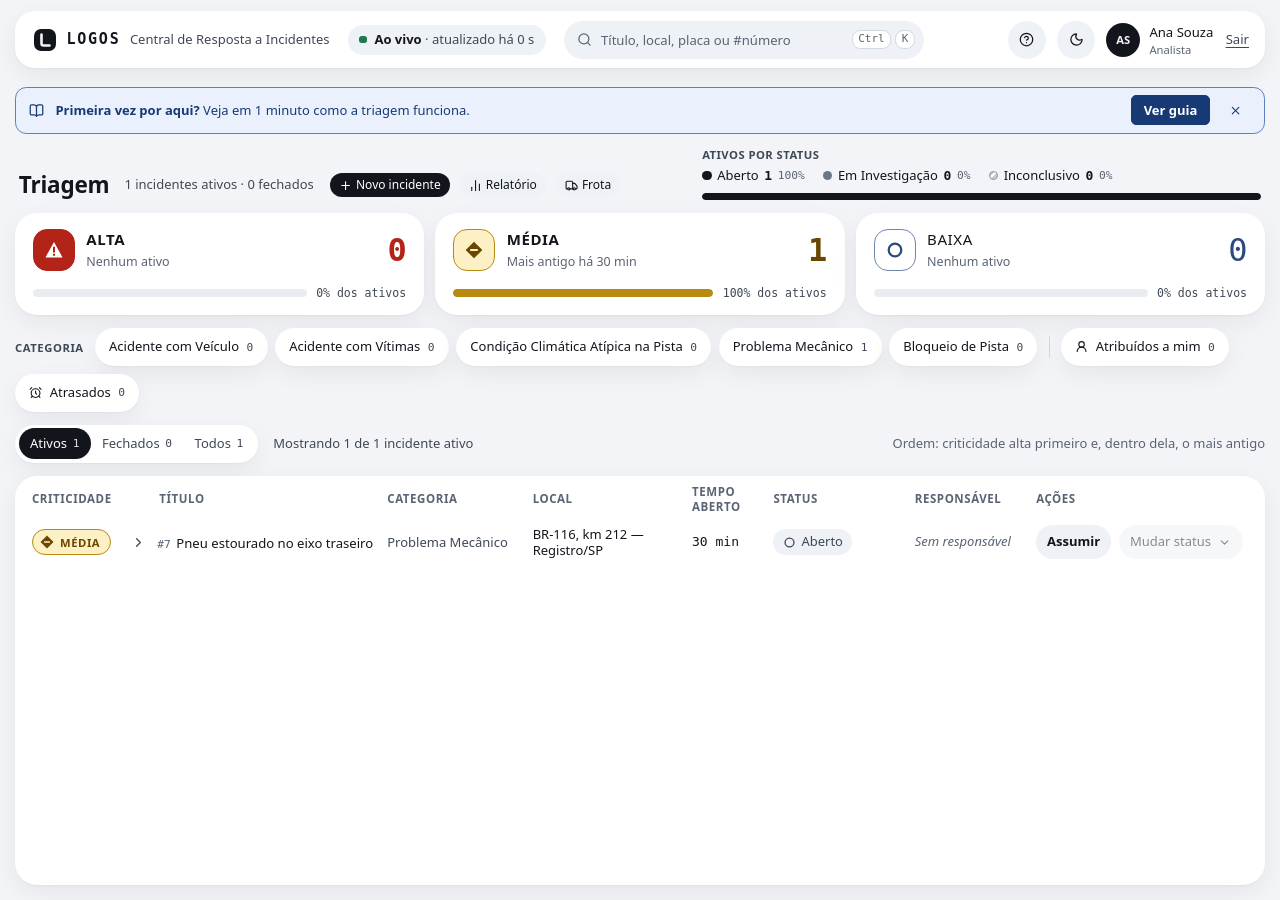
Test: TelaTriagem — ações › a leitura periódica não apaga a mudança em andamento
Click the button with aria-label "Assumir #7" at (1074, 542), box [1036,525,1111,559]
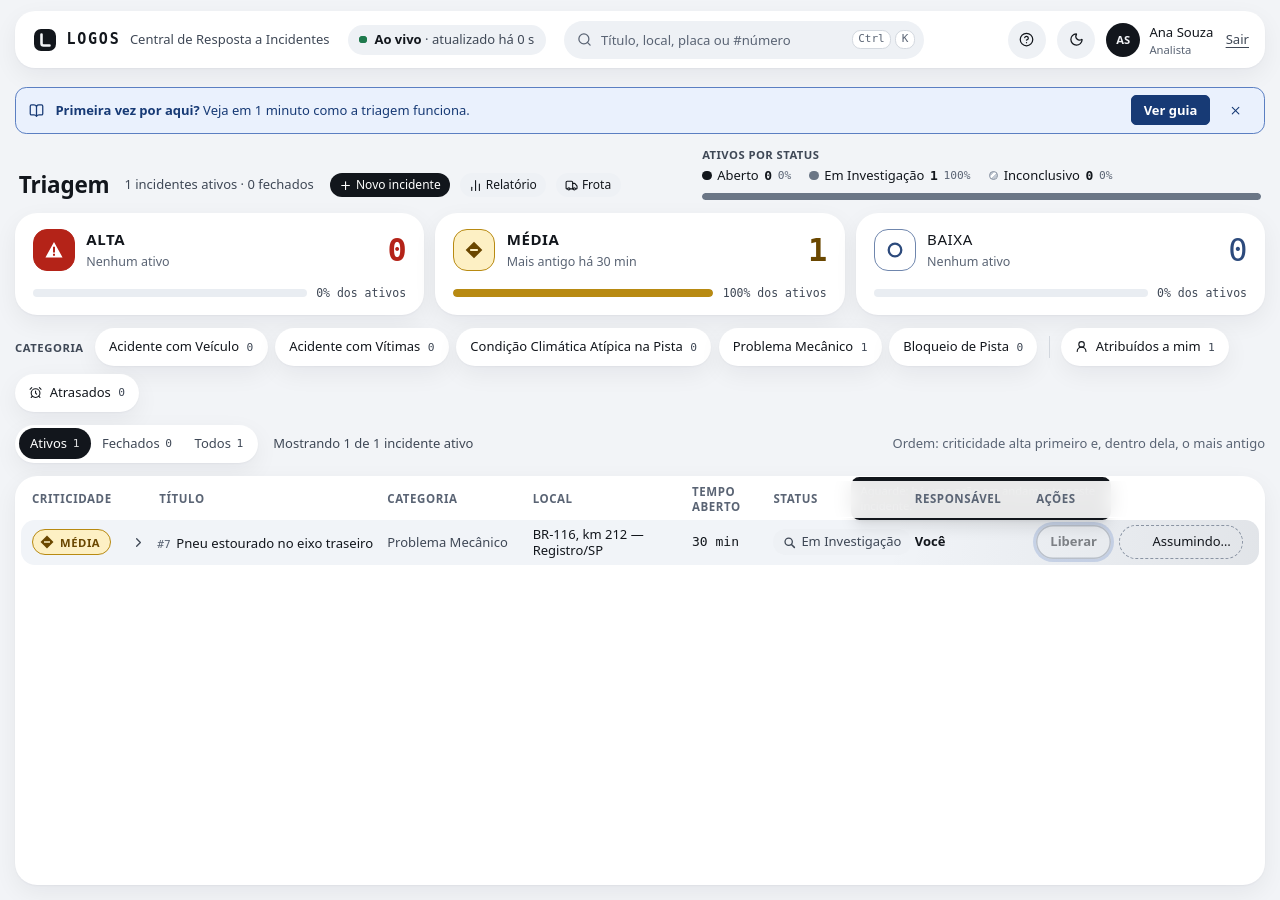
Expected: the text "Você" is shown, [915,532,945,550]
